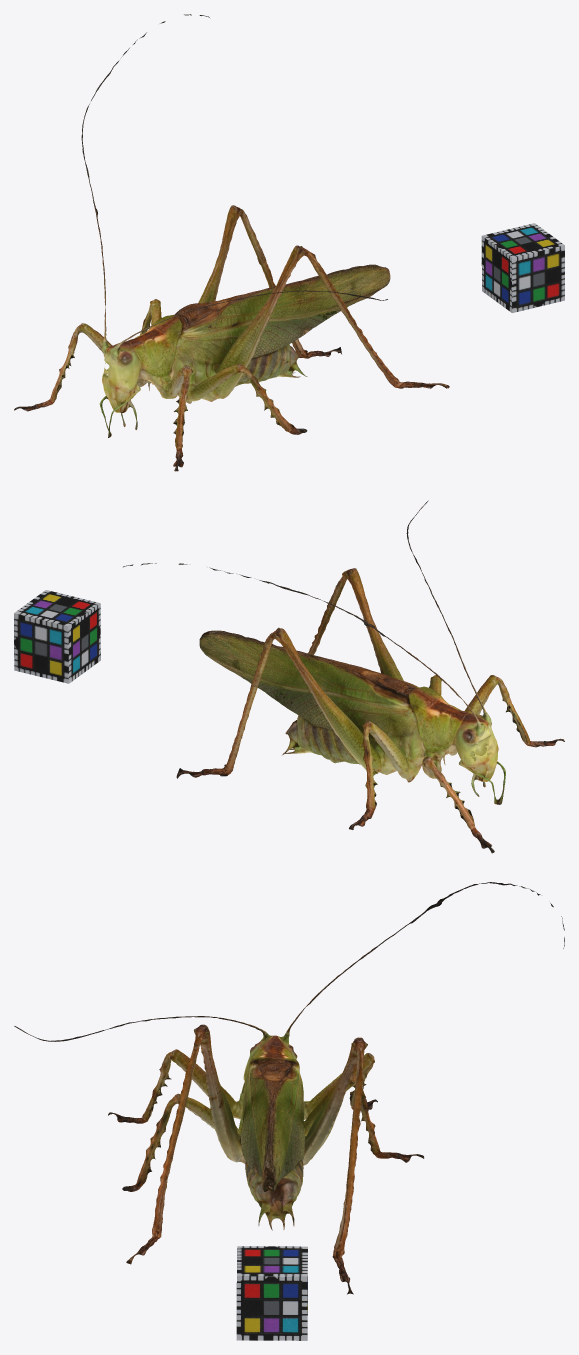
The model's file is nm__katydid.glb.
The picture shows the model from 3 angles, top to bottom: view 1: azimuth 30°, elevation 25°; view 2: azimuth 150°, elevation 25°; view 3: azimuth 270°, elevation 25°; orthographic projection. The views are drawn at different scales.
Visible parts, largest first — view 1: QS1308-W05-1all-1_5, Cube_2; view 2: QS1308-W05-1all-1_5, Cube_2; view 3: QS1308-W05-1all-1_5, Cube_2.
Part boxes in pixels (bbox=[...]): QS1308-W05-1all-1_5: bbox=[14, 14, 449, 471]; Cube_2: bbox=[481, 223, 564, 312]; QS1308-W05-1all-1_5: bbox=[123, 500, 564, 853]; Cube_2: bbox=[14, 590, 100, 683]; QS1308-W05-1all-1_5: bbox=[14, 882, 564, 1294]; Cube_2: bbox=[236, 1246, 307, 1340].
Bounding box in the file's own units: 5.81 × 3.29 × 4.85.
Materials: 2 (2 with a texture image).
